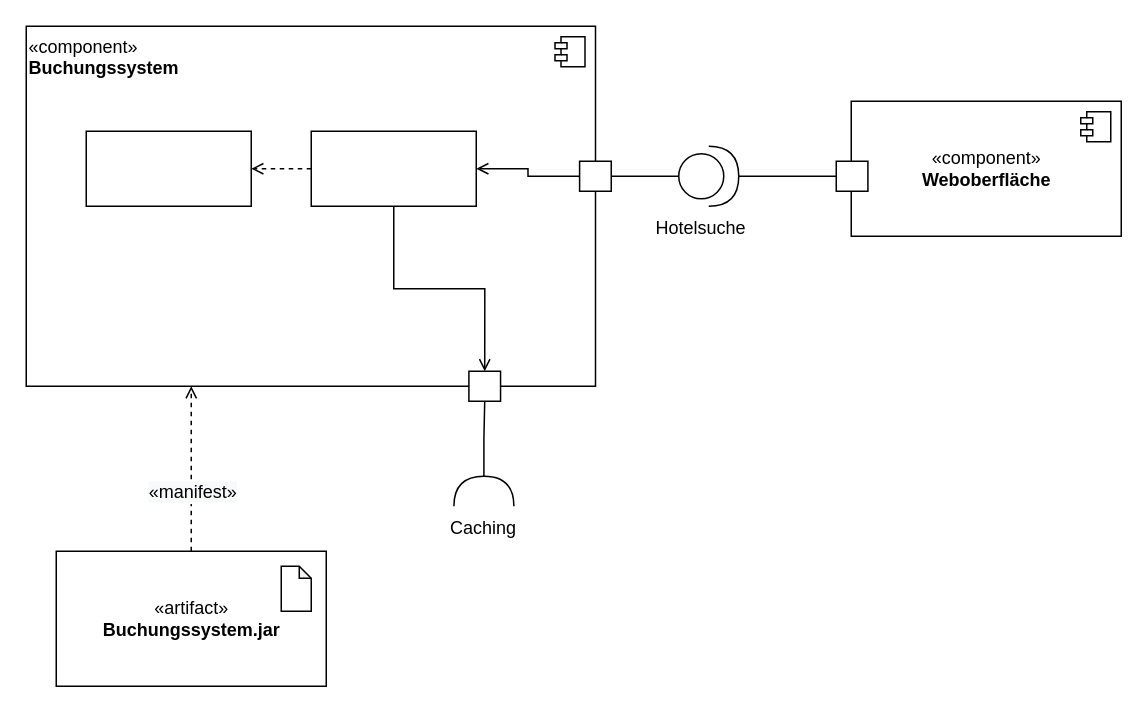
This 1148x713 diagram has some shape labels left out. Each missing label, with the centre of its shape:
"«class» DBAccess" belongs at [168,168].
"«class» HotelRetrieval" belongs at [393,168].
